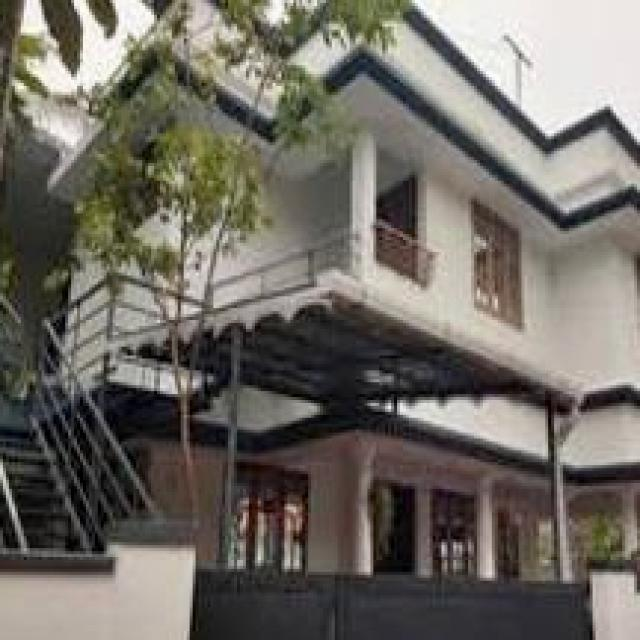upstair: (1, 401, 149, 549)
